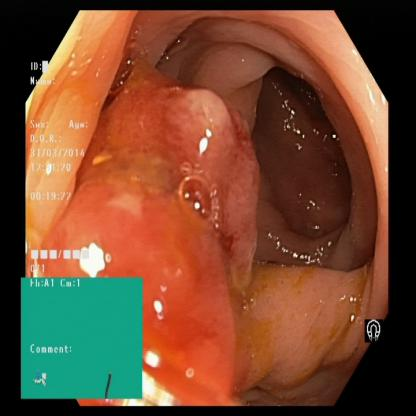Labels: (27, 56, 109, 277), (21, 275, 145, 400), (347, 304, 388, 354)
Polyps: (156, 81, 262, 258)
